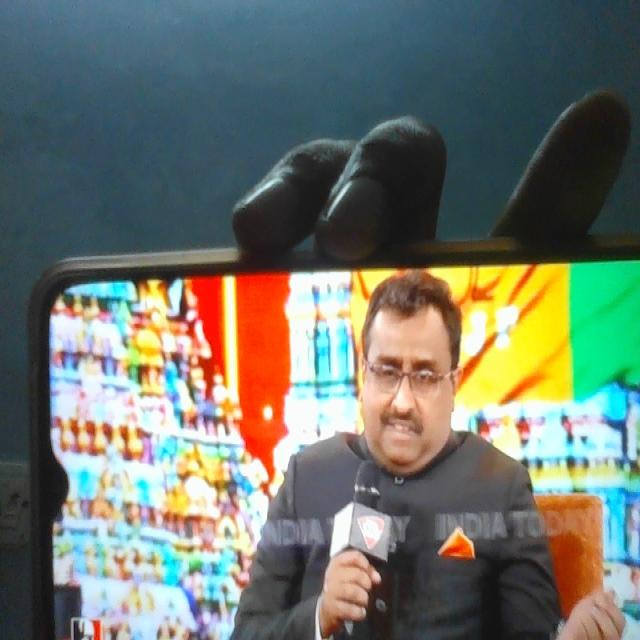fake: (344, 262, 462, 486)
